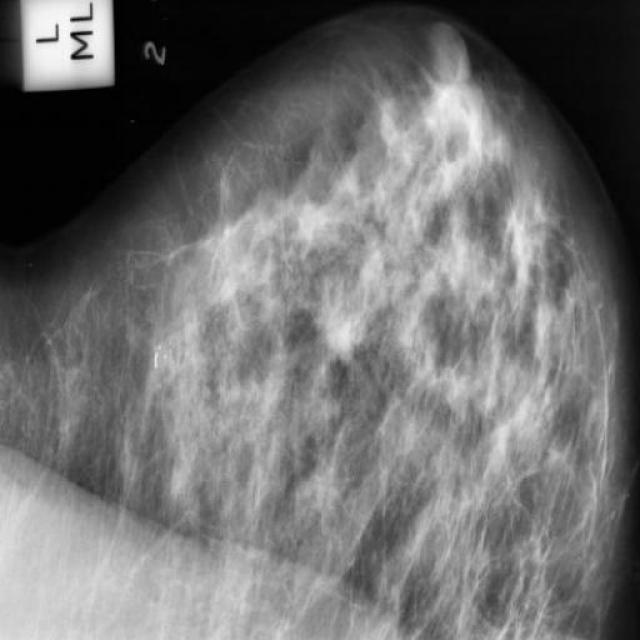cancer: (146, 226, 195, 292)
